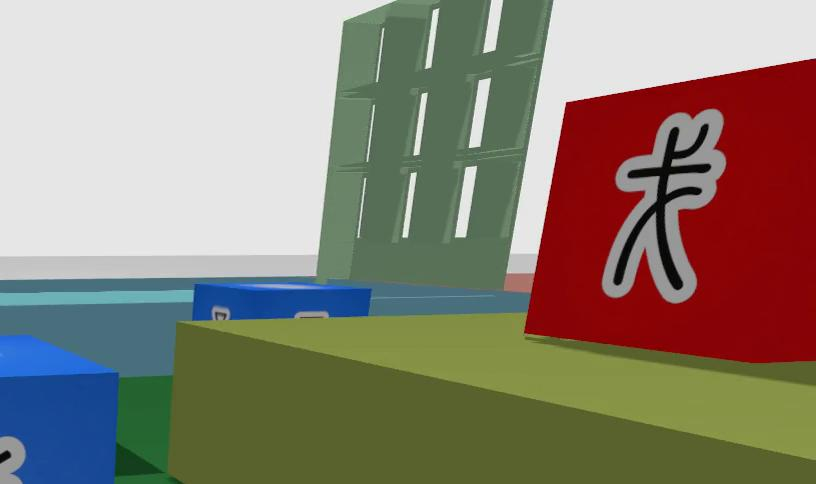KFS_FAKE: (526, 59, 815, 360), (601, 109, 726, 304)
KFS_REAL: (0, 335, 118, 484), (0, 436, 25, 484)
